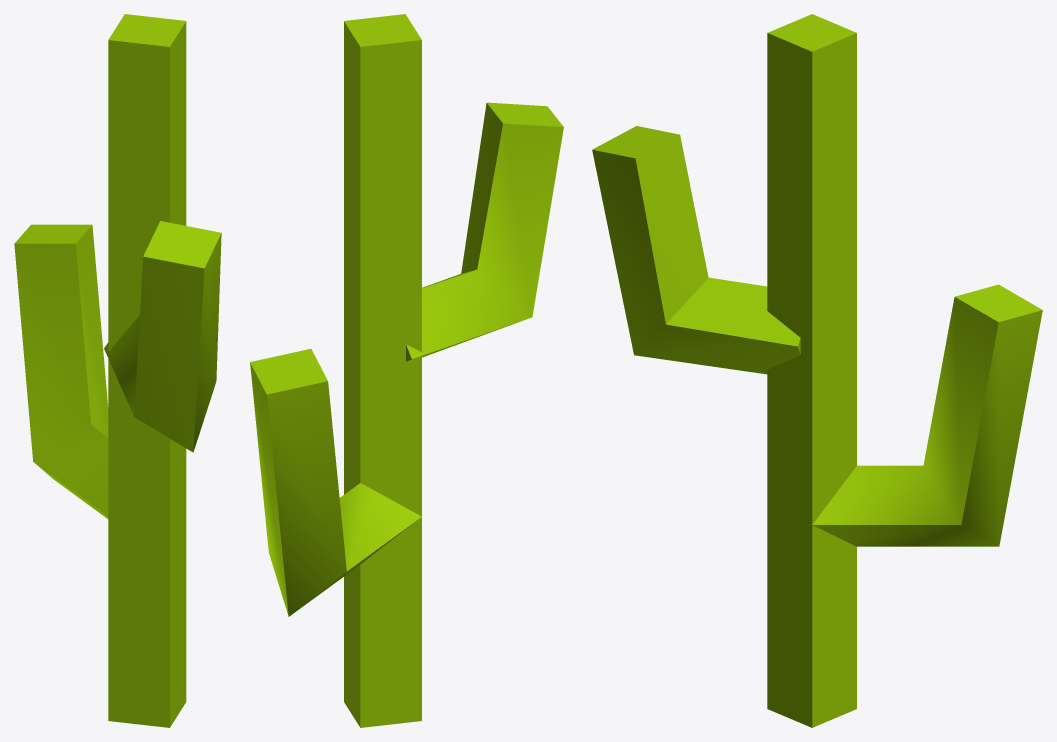
File: Tree_1.fbx
The picture shows the model from 3 angles, left to right: view 1: azimuth 30°, elevation 25°; view 2: azimuth 150°, elevation 25°; view 3: azimuth 270°, elevation 25°; orthographic projection.
Visible parts, largest first — view 1: Cactus; view 2: Cactus; view 3: Cactus.
Part boxes in pixels (bbox=[...]): Cactus: bbox=[14, 14, 221, 727]; Cactus: bbox=[250, 14, 563, 727]; Cactus: bbox=[592, 14, 1042, 727].
Size of the model in its own units: 40.45 by 200 by 121.
